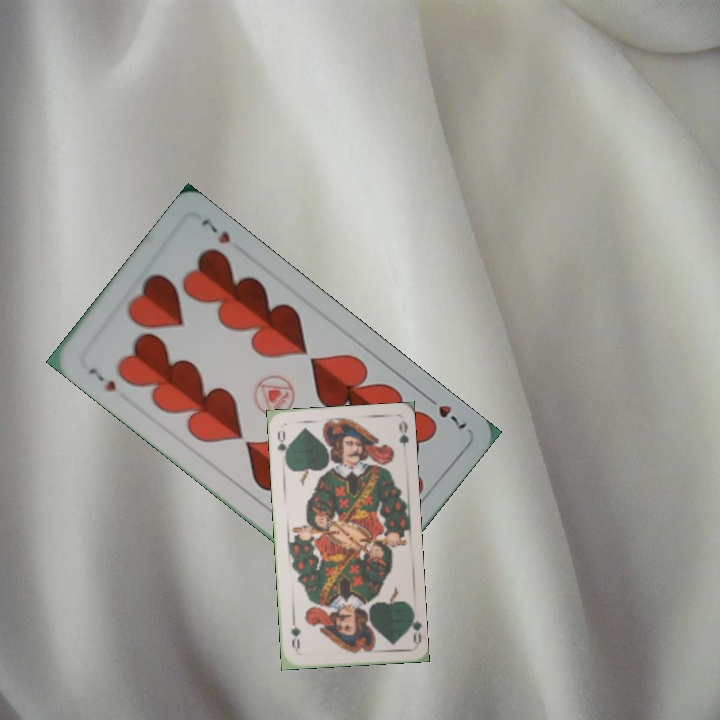GO: (403, 605, 424, 646), (273, 427, 291, 464)
H7: (420, 390, 470, 432), (84, 364, 119, 395)
